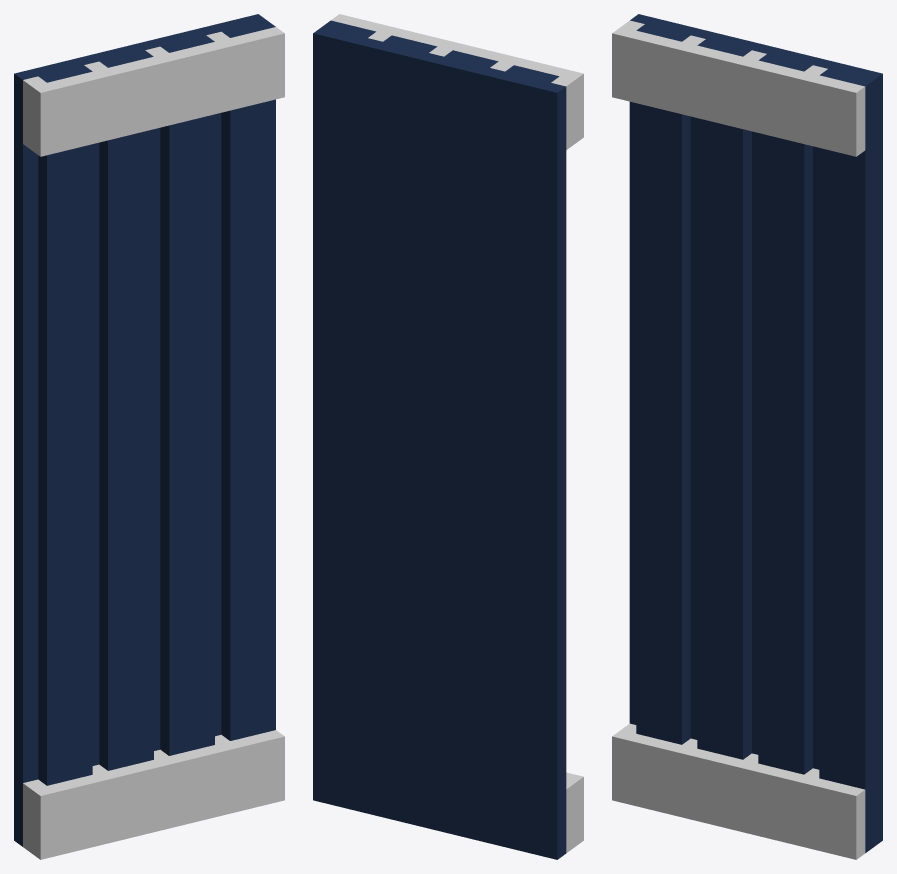
The model's file is Side_A.obj.
3 views of the same model, side by side, from view 1: azimuth 30°, elevation 25°; view 2: azimuth 150°, elevation 25°; view 3: azimuth 330°, elevation 25° (orthographic).
Bounding box in the file's own units: 1.6 × 4.8 × 0.3.
1 material, 1 textured.
